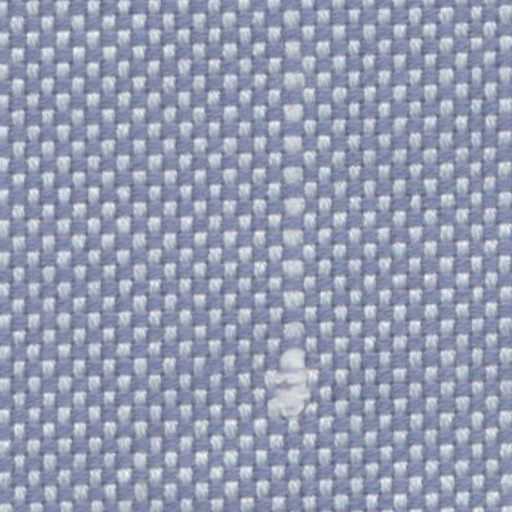DaiSha: (262, 9, 331, 433)
